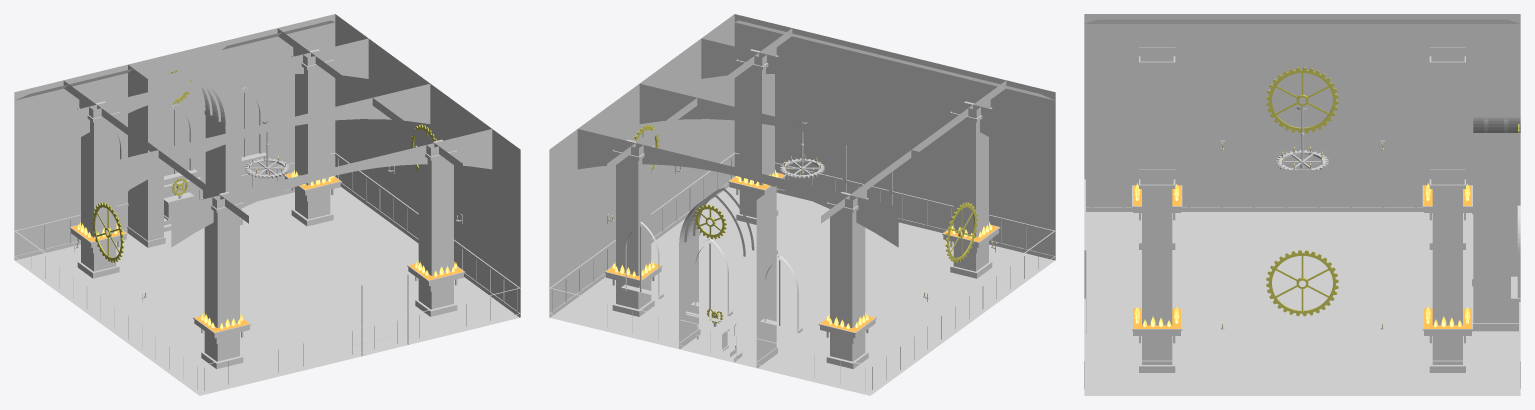
The model's file is guardian-vault.glb.
3 views of the same model, side by side, from view 1: azimuth 30°, elevation 25°; view 2: azimuth 150°, elevation 25°; view 3: azimuth 270°, elevation 25° (orthographic). The views are drawn at different scales.
Parts seen in each view (by area): view 1: guardian-vault, door-frame-s; view 2: guardian-vault, door-plug-s, door-frame-s; view 3: guardian-vault, door-frame-s.
Part boxes in pixels (<box>): guardian-vault: <box>14,14,520,395</box>; door-frame-s: <box>356,273,414,356</box>; guardian-vault: <box>549,14,1055,395</box>; door-plug-s: <box>840,145,896,205</box>; door-frame-s: <box>840,143,896,206</box>; guardian-vault: <box>1084,14,1520,395</box>; door-frame-s: <box>1084,222,1091,335</box>.
Bounding box in the file's own units: 12 × 6 × 12.
